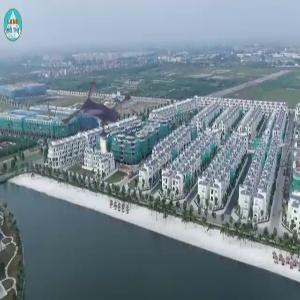drone: (47, 71, 150, 174)
